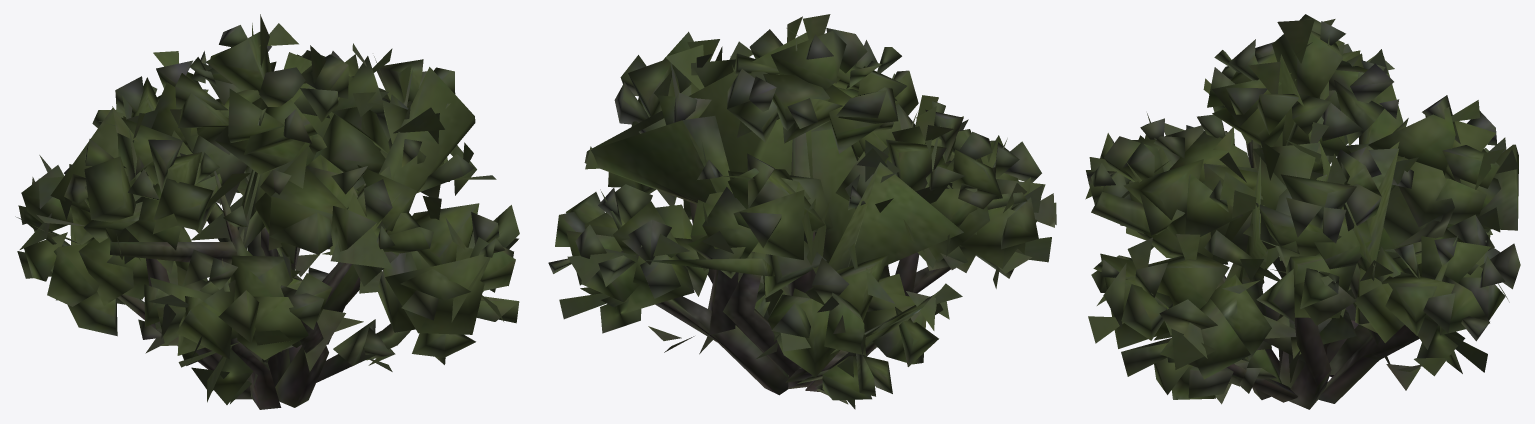
The model's file is rl_isle_berries.glb.
3 renders of one model, left to right at view 1: azimuth 30°, elevation 25°; view 2: azimuth 150°, elevation 25°; view 3: azimuth 270°, elevation 25°, orthographic.
Visible parts, largest first — view 1: kit-blackthorn-shrub-1; view 2: kit-blackthorn-shrub-1; view 3: kit-blackthorn-shrub-1.
Boxes of the visible parts, box(x1,y1,x2,y2) form: kit-blackthorn-shrub-1: box(15, 14, 519, 409); kit-blackthorn-shrub-1: box(548, 14, 1056, 409); kit-blackthorn-shrub-1: box(1085, 14, 1520, 409).
Size of the model in its own units: 1.13 by 1.05 by 1.12.
Materials: 1 (1 with a texture image).
